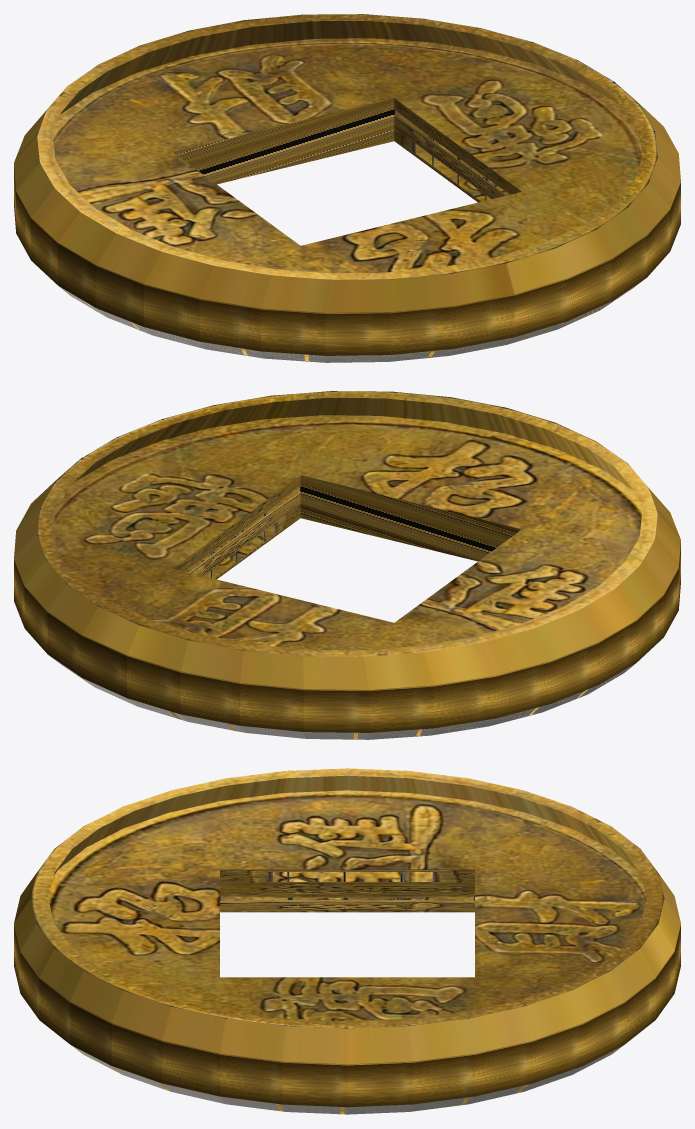
Rendered from Coin.fbx.
3 views of the same model, one above another, from view 1: azimuth 30°, elevation 25°; view 2: azimuth 150°, elevation 25°; view 3: azimuth 270°, elevation 25° (orthographic).
Parts seen in each view (by area): view 1: Coin; view 2: Coin; view 3: Coin.
Part boxes in pixels (x1=…): Coin: x1=14, y1=14, x2=680, y2=362; Coin: x1=14, y1=391, x2=680, y2=739; Coin: x1=14, y1=768, x2=680, y2=1114.
Bounding box in the file's own units: 39.14 × 5.26 × 39.14.
1 material, 1 textured.
